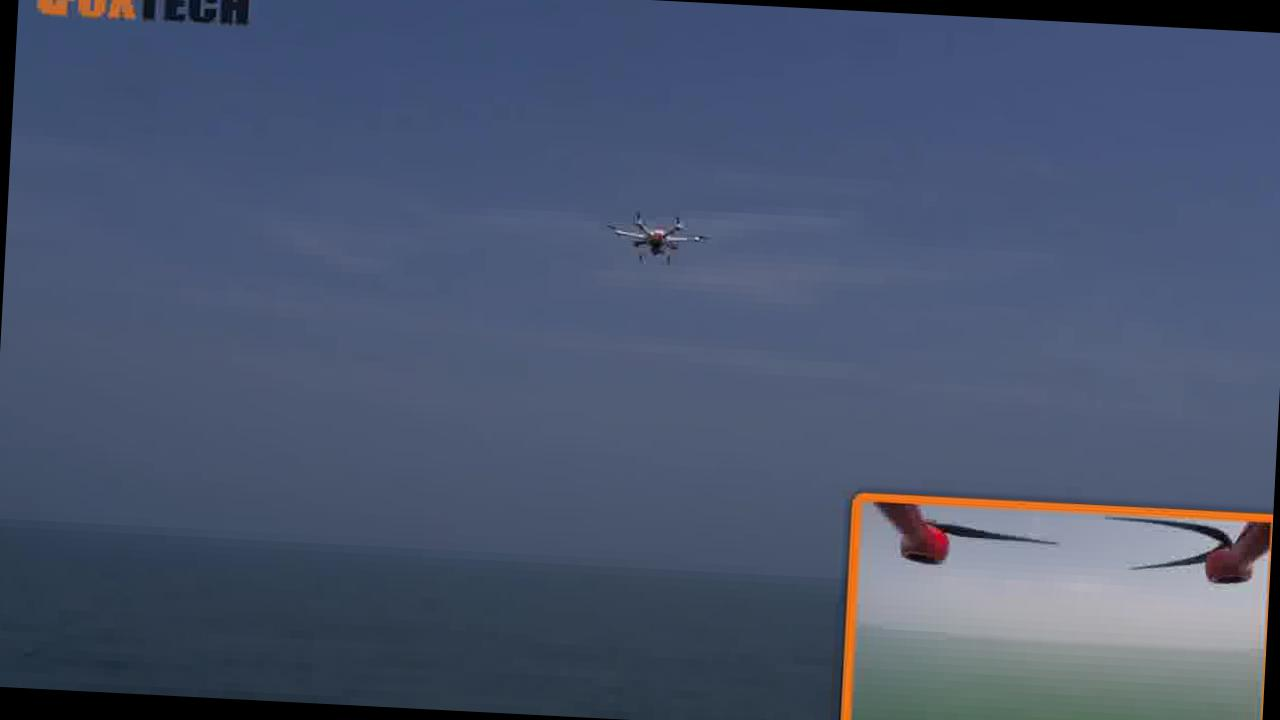drone: (602, 191, 704, 284)
